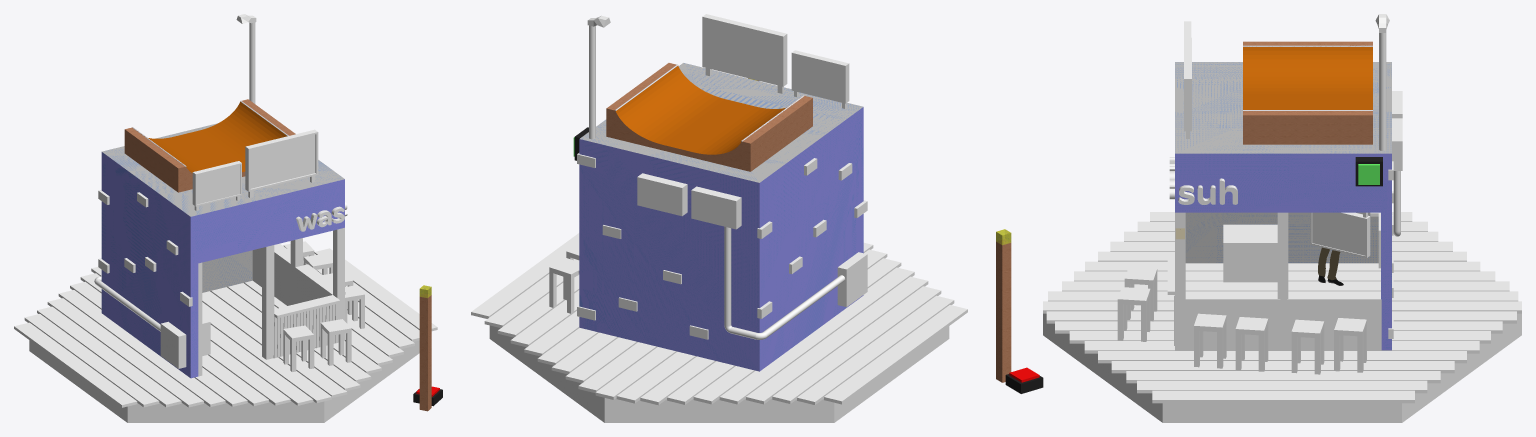
The model's file is seabar.dae.
3 views of the same model, side by side, from view 1: azimuth 30°, elevation 25°; view 2: azimuth 150°, elevation 25°; view 3: azimuth 270°, elevation 25° (orthographic). The views are drawn at different scales.
Visible parts, largest first — view 1: group_47 (×3), group_39 (×2), group_33, group_49 (×2), group_13, group_18, group_11, group_4, group_5, group_36, group_37, group_17 (+29 smaller); view 2: group_47 (×2), group_39 (×2), group_33, group_49, group_13, group_18, group_11, group_4, group_5, group_41, group_15, group_60 (+18 smaller); view 3: group_47 (×3), group_39 (×2), group_33, group_19, group_15, group_3, group_45, group_16, group_12, group_34, group_80, group_14 (+28 smaller).
Boxes of the visible parts, left/top/right/bottom form: group_47 (×3): left=101, top=123, right=344, bottom=378; group_39 (×2): left=124, top=99, right=295, bottom=192; group_33: left=29, top=340, right=419, bottom=422; group_49 (×2): left=245, top=129, right=318, bottom=191; group_13: left=47, top=298, right=203, bottom=407; group_18: left=58, top=290, right=225, bottom=406; group_11: left=37, top=306, right=181, bottom=407; group_4: left=24, top=314, right=159, bottom=407; group_5: left=14, top=322, right=137, bottom=407; group_36: left=202, top=302, right=331, bottom=403; group_37: left=202, top=291, right=347, bottom=397; group_17: left=210, top=325, right=313, bottom=405; group_47 (×2): left=579, top=63, right=863, bottom=371; group_39 (×2): left=606, top=63, right=812, bottom=171; group_33: left=489, top=325, right=949, bottom=422; group_49: left=702, top=14, right=787, bottom=86; group_13: left=746, top=276, right=928, bottom=404; group_18: left=719, top=267, right=914, bottom=404; group_11: left=772, top=286, right=941, bottom=403; group_4: left=797, top=295, right=954, bottom=404; group_5: left=824, top=305, right=967, bottom=404; group_41: left=791, top=50, right=849, bottom=103; group_15: left=471, top=233, right=579, bottom=318; group_60: left=724, top=226, right=845, bottom=339; group_47 (×3): left=1175, top=62, right=1391, bottom=350; group_39 (×2): left=1243, top=41, right=1372, bottom=144; group_33: left=1043, top=313, right=1521, bottom=422; group_19: left=1062, top=281, right=1509, bottom=291; group_15: left=1152, top=390, right=1414, bottom=403; group_3: left=1137, top=380, right=1427, bottom=393; group_45: left=1223, top=224, right=1277, bottom=282; group_16: left=1126, top=371, right=1440, bottom=383; group_12: left=1074, top=271, right=1495, bottom=281; group_34: left=1111, top=361, right=1454, bottom=373; group_80: left=1098, top=351, right=1466, bottom=363; group_14: left=1085, top=261, right=1480, bottom=271.
Size of the model in its own units: 246 by 291 by 216.
Materials: 22 (4 with a texture image).
